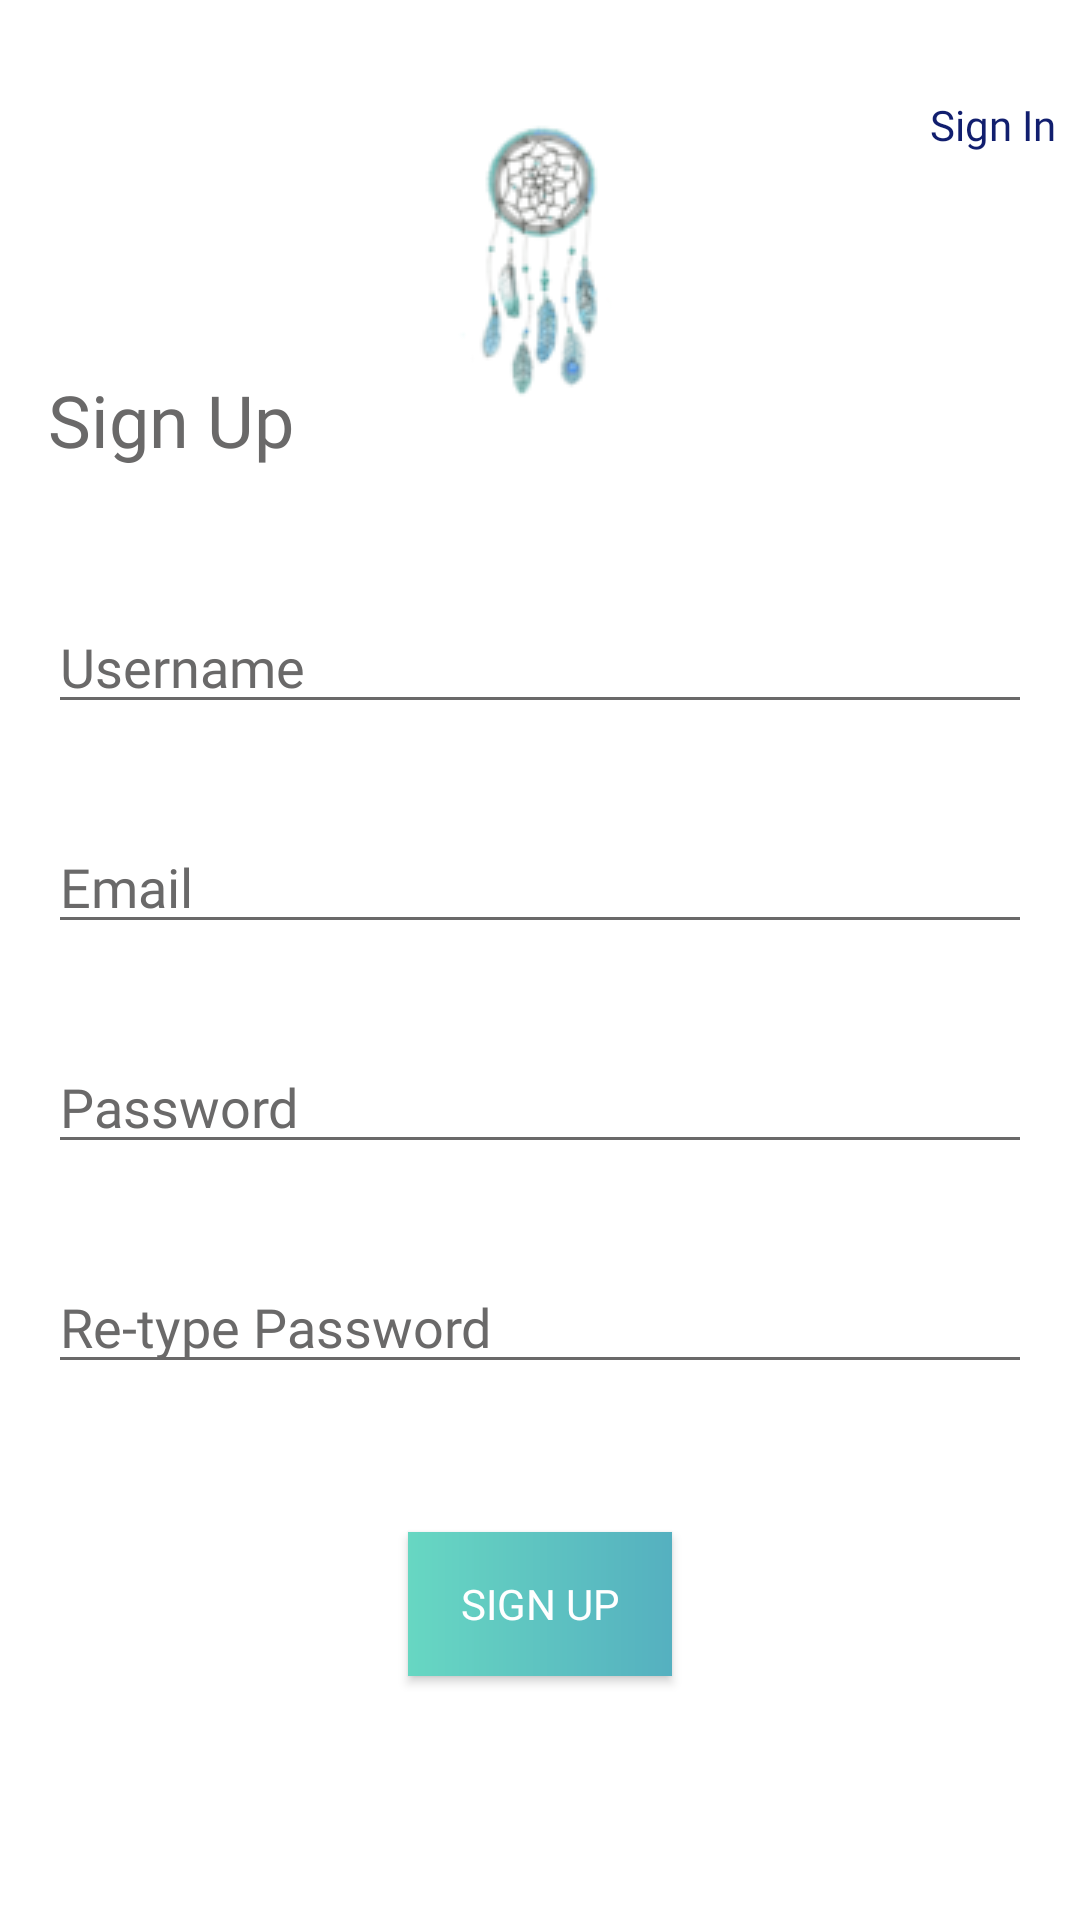

Named icons in this screenshot (1080*1920) and their bounding boxes, box=[x1, y1, x2, y2]:
dreamcatcher sm: box=[482, 127, 598, 394]
